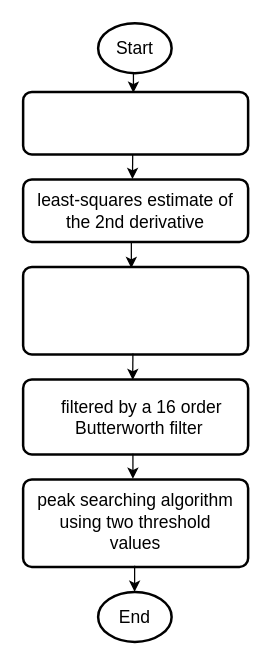
Image size: 275x664. Some labels were removed from this diagram. Here are the shapes that lost their labels. From the top down, the centre of each, then its label:
At [135,122]: "Loading the carotid pulse signal".
At [135,310]: "squared and smoothed to obtain the feature signal".
